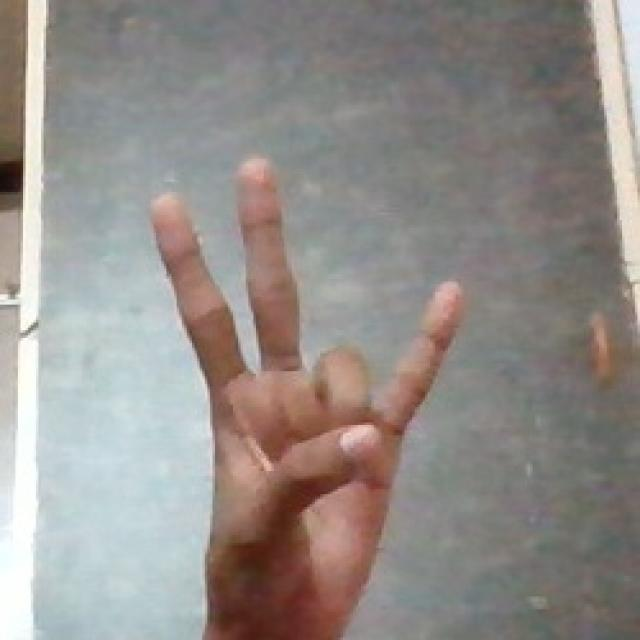Numeric-7: (124, 140, 458, 636)
